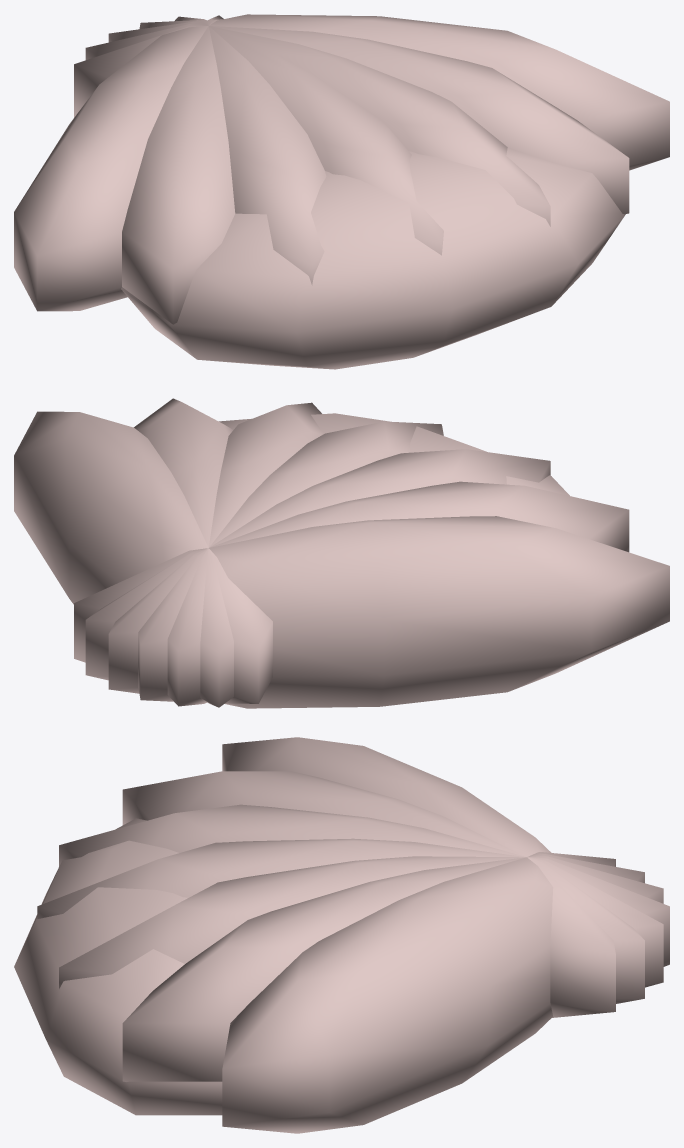
File: item_shell.glb
3 views of the same model, one above another, from view 1: azimuth 30°, elevation 25°; view 2: azimuth 150°, elevation 25°; view 3: azimuth 270°, elevation 25° (orthographic). The views are drawn at different scales.
Parts seen in each view (by area): view 1: item_shell; view 2: item_shell; view 3: item_shell.
Part boxes in pixels (<box>): item_shell: <box>14,14,669,369</box>; item_shell: <box>14,398,669,708</box>; item_shell: <box>14,737,669,1133</box>.
Bounding box in the file's own units: 0.2214 × 0.07 × 0.1893.
